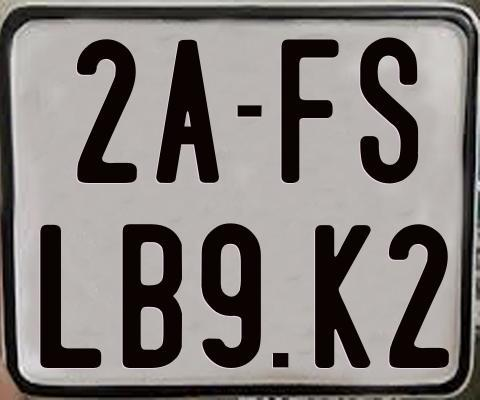2: (389, 221, 451, 367), (76, 37, 138, 181)
9: (200, 223, 265, 373)
A: (154, 37, 222, 182)
B: (122, 223, 187, 368)
F: (279, 39, 341, 184)
K: (313, 223, 372, 371)
L: (39, 223, 101, 371)
S: (360, 35, 420, 187)
